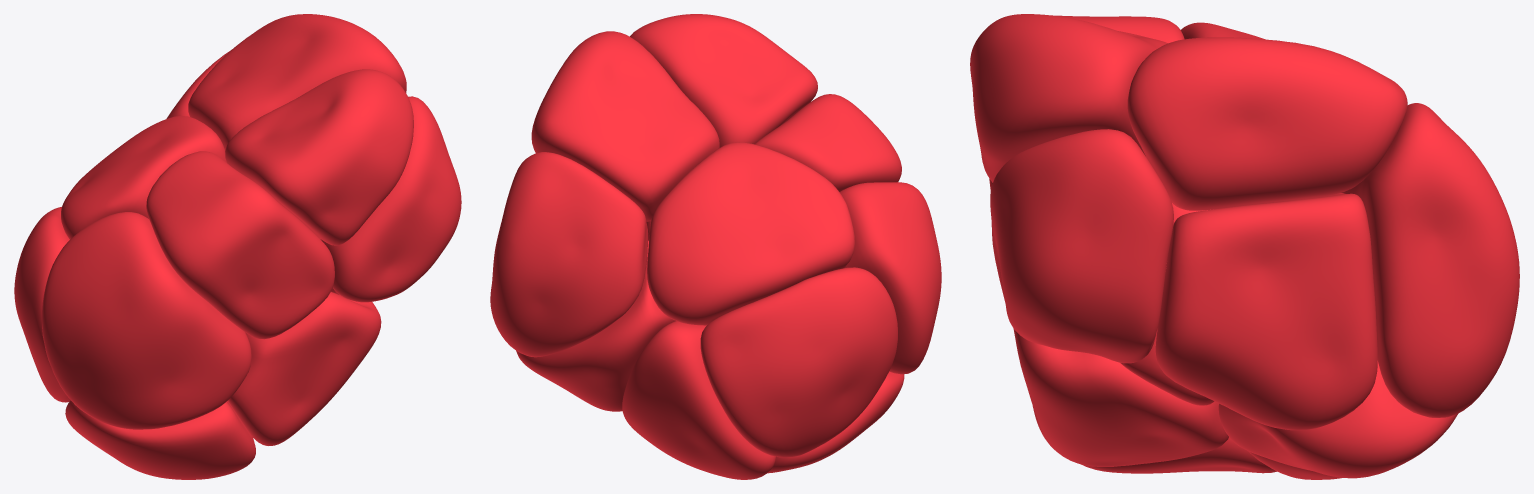
3 views of the same model, side by side, from view 1: azimuth 30°, elevation 25°; view 2: azimuth 150°, elevation 25°; view 3: azimuth 270°, elevation 25° (orthographic). The views are drawn at different scales.
Visible parts, largest first — view 1: a4.003, a4.004, a4.013, a4.007, a4.014, a4.011, a4.008, a4.001, a4.006, a4.002; view 2: a4.001, a4.006, a4.002, a4.007, a4.013, a4.010, a4.003, a4.004, a4.005, a4.008; view 3: a4.009, a4.007, a4.002, a4.014, a4.013, a4.011, a4.005, a4.008, a4.004, a4.012, a4.001, a4.010.
Boxes of the visible parts, box(x1,y1,x2,y2) form: a4.003: box(42, 212, 251, 429); a4.004: box(146, 151, 334, 339); a4.013: box(225, 69, 413, 245); a4.007: box(188, 14, 406, 150); a4.014: box(320, 96, 461, 302); a4.011: box(228, 292, 381, 445); a4.008: box(65, 400, 255, 479); a4.001: box(61, 116, 226, 239); a4.006: box(14, 207, 70, 402); a4.002: box(166, 50, 230, 118); a4.001: box(647, 142, 854, 325); a4.006: box(700, 267, 897, 457); a4.002: box(490, 152, 648, 357); a4.007: box(531, 31, 719, 221); a4.013: box(630, 14, 817, 147); a4.010: box(622, 321, 775, 479); a4.003: box(839, 182, 941, 374); a4.004: box(754, 94, 901, 191); a4.005: box(516, 240, 675, 411); a4.008: box(767, 371, 904, 473); a4.009: box(1155, 193, 1377, 430); a4.007: box(1127, 37, 1407, 210); a4.002: box(1341, 103, 1519, 417); a4.014: box(990, 129, 1173, 363); a4.013: box(970, 14, 1167, 182); a4.011: box(1013, 328, 1228, 466); a4.005: box(1218, 361, 1458, 478); a4.008: box(1081, 437, 1276, 473); a4.004: box(989, 15, 1184, 190); a4.012: box(1120, 203, 1214, 405); a4.001: box(1181, 22, 1265, 39); a4.010: box(1248, 451, 1342, 479).
Bounding box in the file's own units: 4399 × 4238 × 3847.
